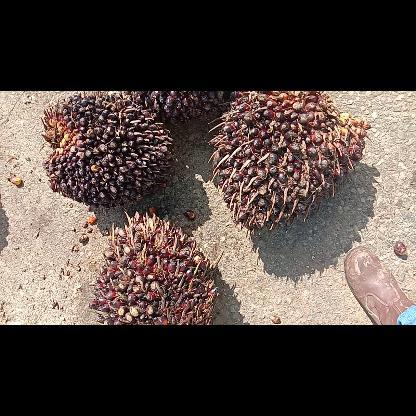TBS mentah: (208, 90, 374, 238), (41, 90, 176, 208), (89, 210, 223, 324), (124, 91, 236, 123)
